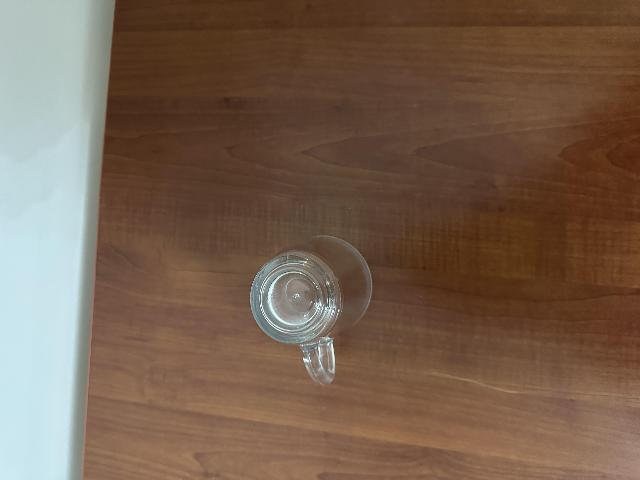Cam: (249, 231, 374, 385)
